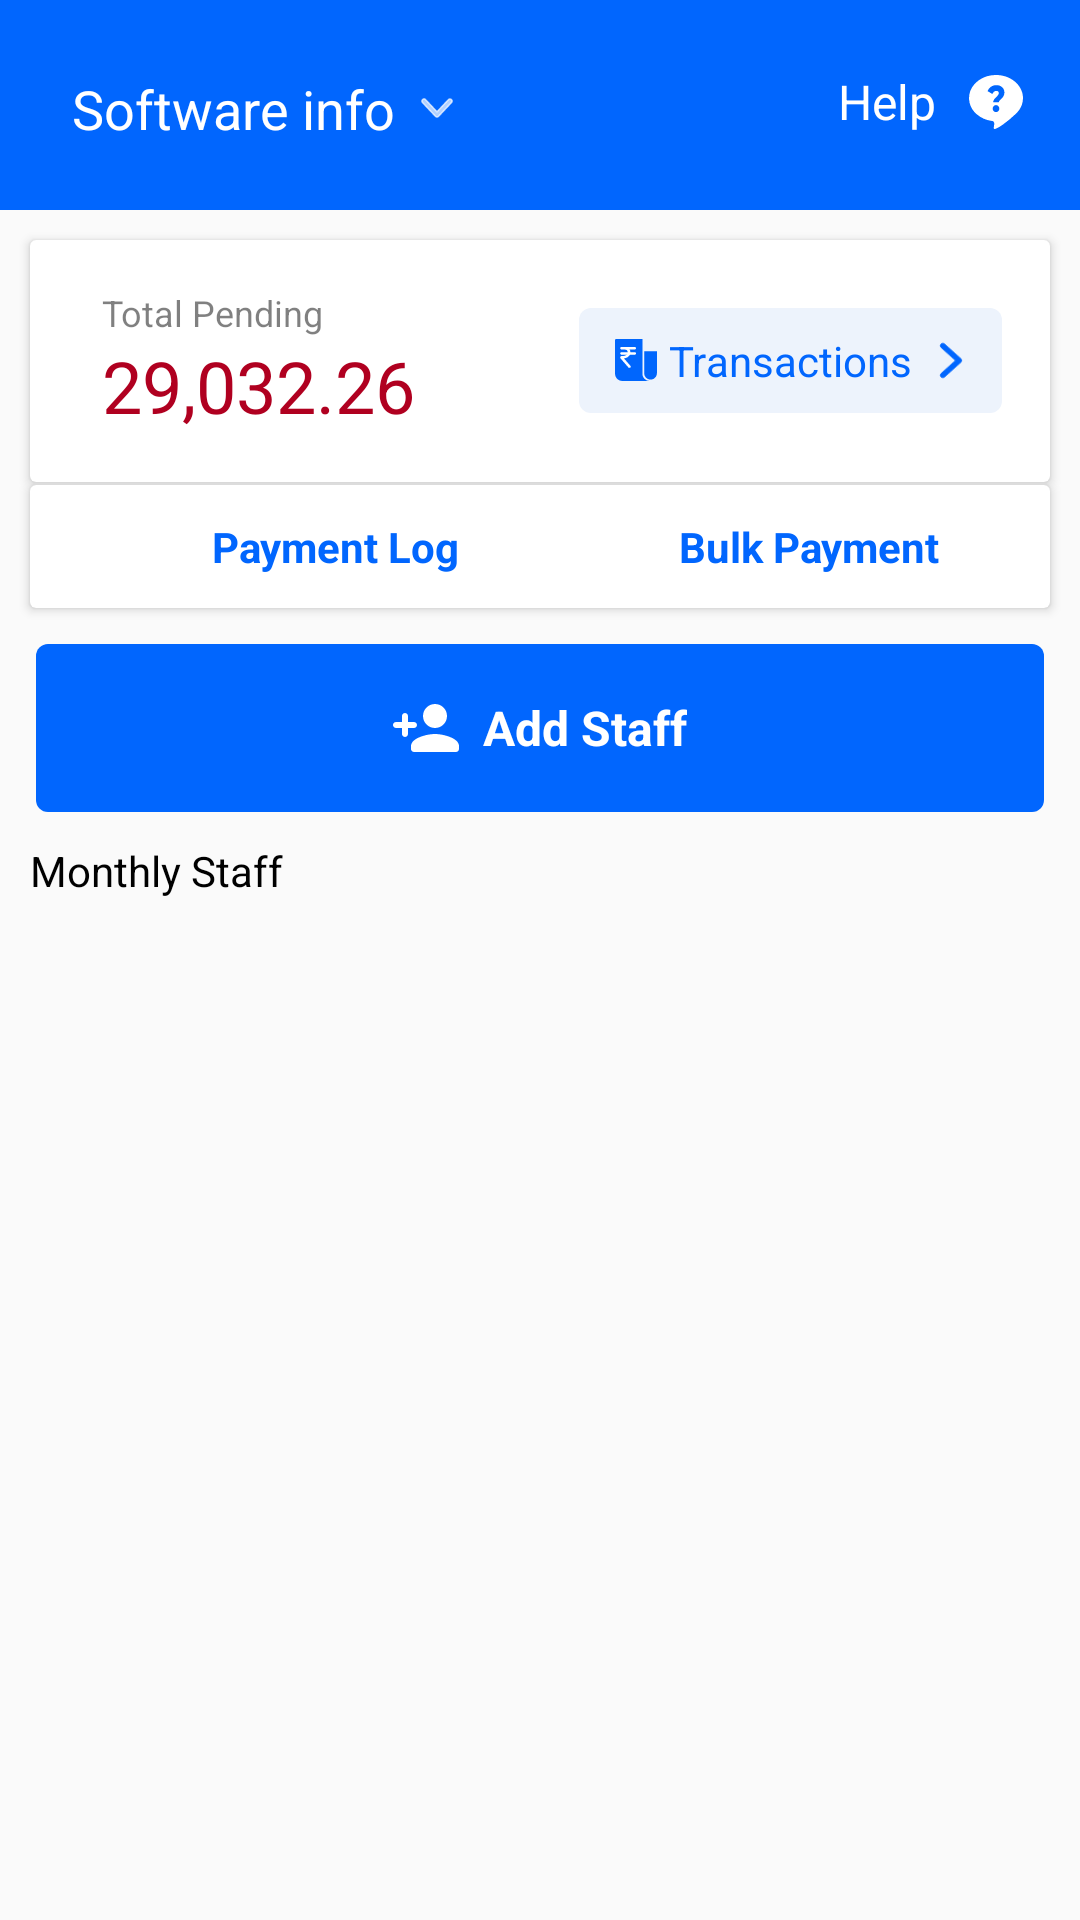

Named icons in this screenshot (1080px×1920px) and their centers, [x,y]:
right: [950,360]
salary slip: [636,360]
support: [996,102]
